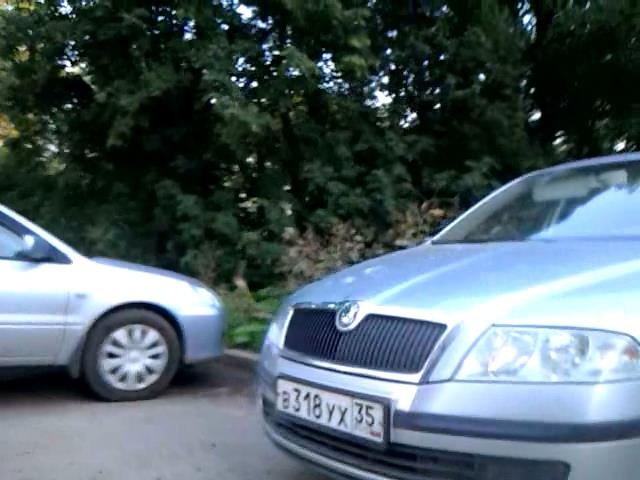car license plate: (276, 377, 388, 454)
